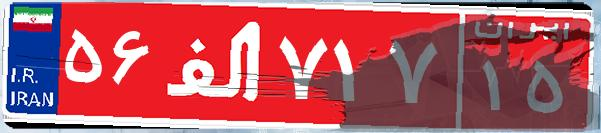1: (330, 28, 385, 110), (475, 38, 525, 113)
5: (57, 26, 110, 107), (525, 38, 570, 115)
6: (110, 28, 158, 105)
7: (385, 28, 445, 110), (273, 28, 330, 110)
الف: (158, 15, 273, 115)
